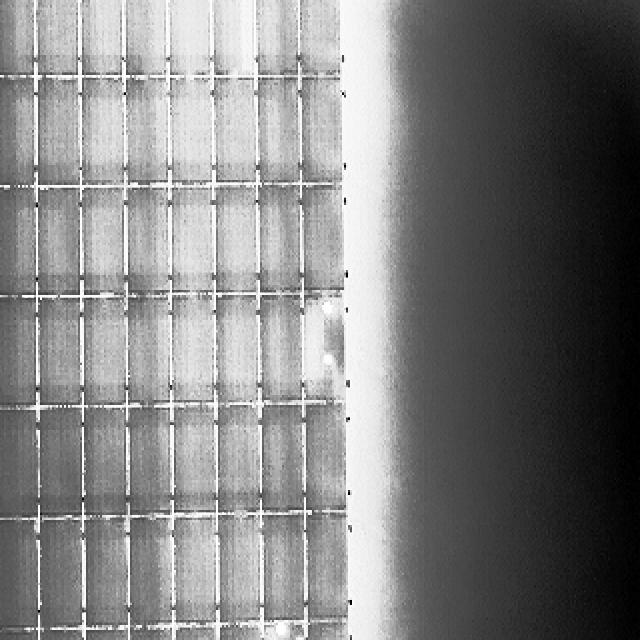Hotspots: (266, 621, 297, 639), (318, 349, 335, 368), (321, 298, 336, 318)
PV-modules: (78, 299, 132, 409), (81, 409, 131, 522), (38, 514, 87, 626), (81, 512, 129, 624), (252, 296, 300, 408), (121, 512, 168, 624), (39, 410, 86, 522), (170, 297, 217, 408), (118, 298, 165, 409), (256, 406, 302, 518), (252, 183, 298, 295), (121, 409, 167, 520), (78, 190, 124, 301), (215, 515, 262, 623), (172, 404, 218, 514), (172, 189, 218, 299), (38, 298, 84, 407), (170, 78, 216, 187), (36, 190, 81, 301), (213, 74, 259, 182), (38, 73, 83, 183), (126, 190, 171, 300), (213, 188, 258, 298), (125, 78, 170, 188), (172, 518, 218, 625), (303, 295, 349, 402), (78, 78, 123, 187), (251, 74, 296, 182), (214, 295, 258, 405), (298, 186, 342, 296), (306, 402, 350, 512), (215, 408, 259, 517), (298, 78, 342, 187), (262, 514, 307, 620), (0, 295, 42, 407), (0, 72, 42, 182), (307, 513, 350, 620), (0, 410, 40, 520), (0, 185, 40, 295), (0, 520, 38, 630), (298, 0, 346, 80), (208, 0, 254, 78), (76, 0, 120, 78), (36, 0, 80, 78), (122, 0, 166, 75), (254, 0, 298, 75), (168, 0, 212, 75), (0, 0, 34, 78)
